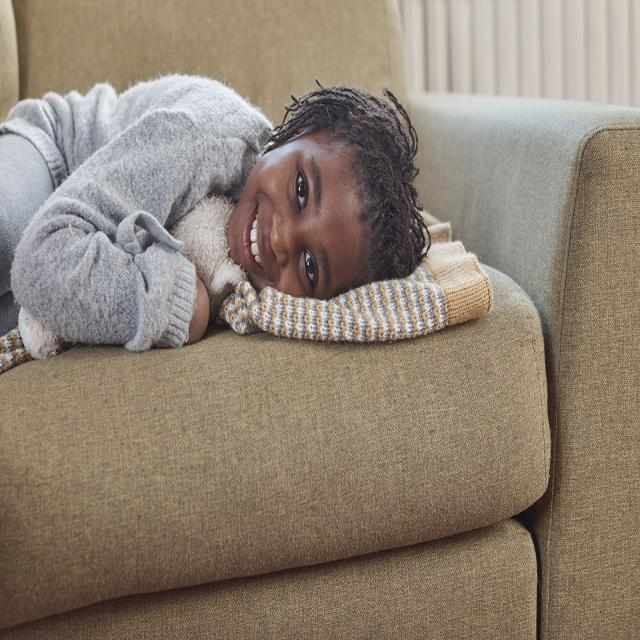child: (0, 68, 421, 352)
